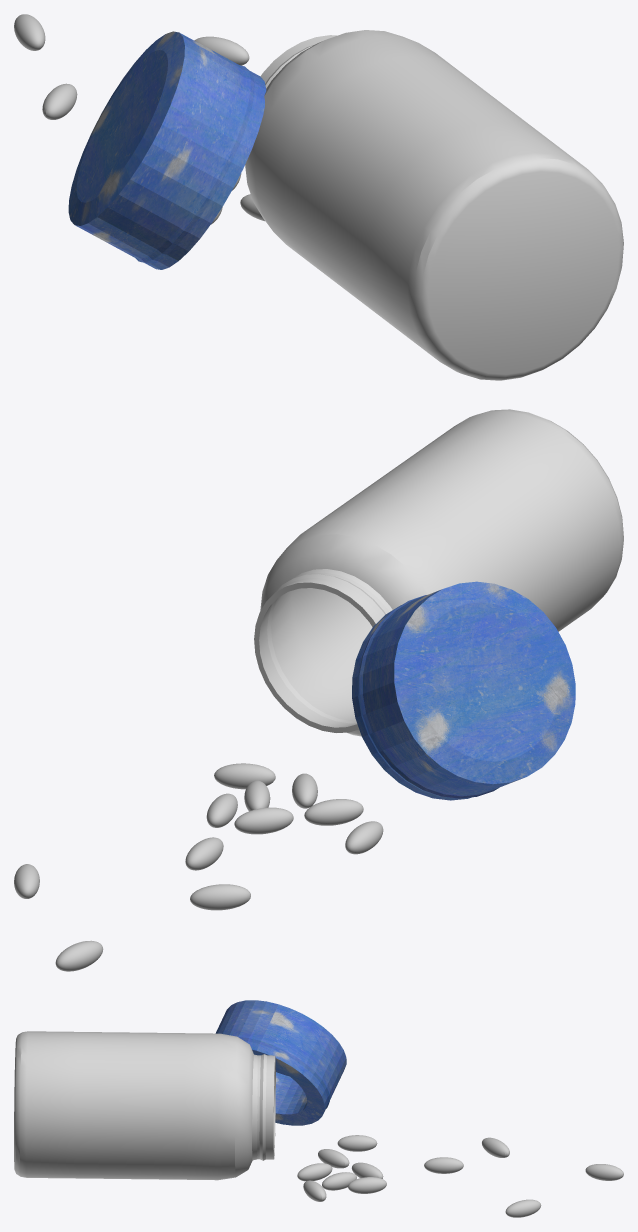
File: haplar1.fbx
The picture shows the model from 3 angles, top to bottom: view 1: azimuth 30°, elevation 25°; view 2: azimuth 150°, elevation 25°; view 3: azimuth 270°, elevation 25°; orthographic projection. The views are drawn at different scales.
Visible parts, largest first — view 1: Cylinder, Cylinder.002, Sphere.007; view 2: Cylinder, Cylinder.002, Sphere.007; view 3: Cylinder, Cylinder.002, Sphere.007.
Part boxes in pixels (x1,y1,x2,y2): Cylinder: [245, 30, 623, 380]; Cylinder.002: [68, 31, 266, 269]; Sphere.007: [14, 14, 264, 224]; Cylinder: [254, 409, 623, 736]; Cylinder.002: [352, 581, 575, 800]; Sphere.007: [14, 763, 383, 971]; Cylinder: [14, 1031, 275, 1180]; Cylinder.002: [215, 1000, 346, 1125]; Sphere.007: [297, 1135, 623, 1217].
Bounding box in the file's own units: 351 × 216 × 832.
